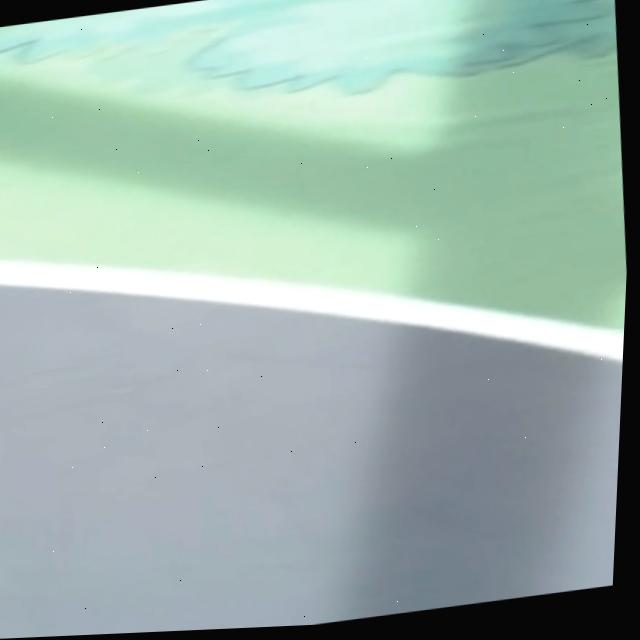right: (0, 262, 624, 363)
